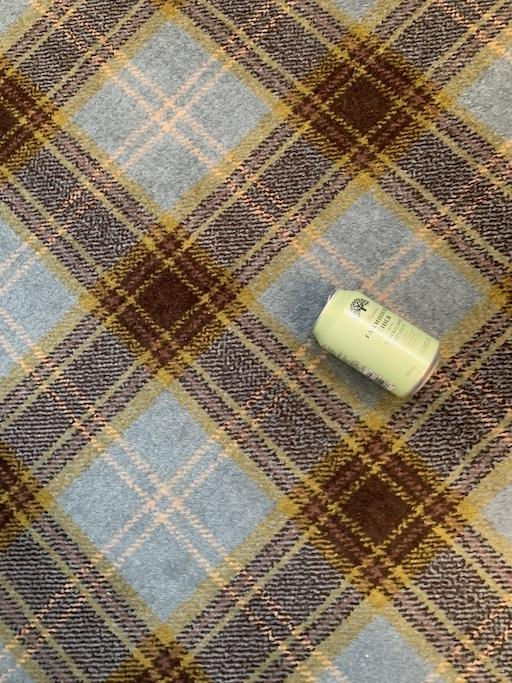Aluminum can: (302, 258, 458, 406)
